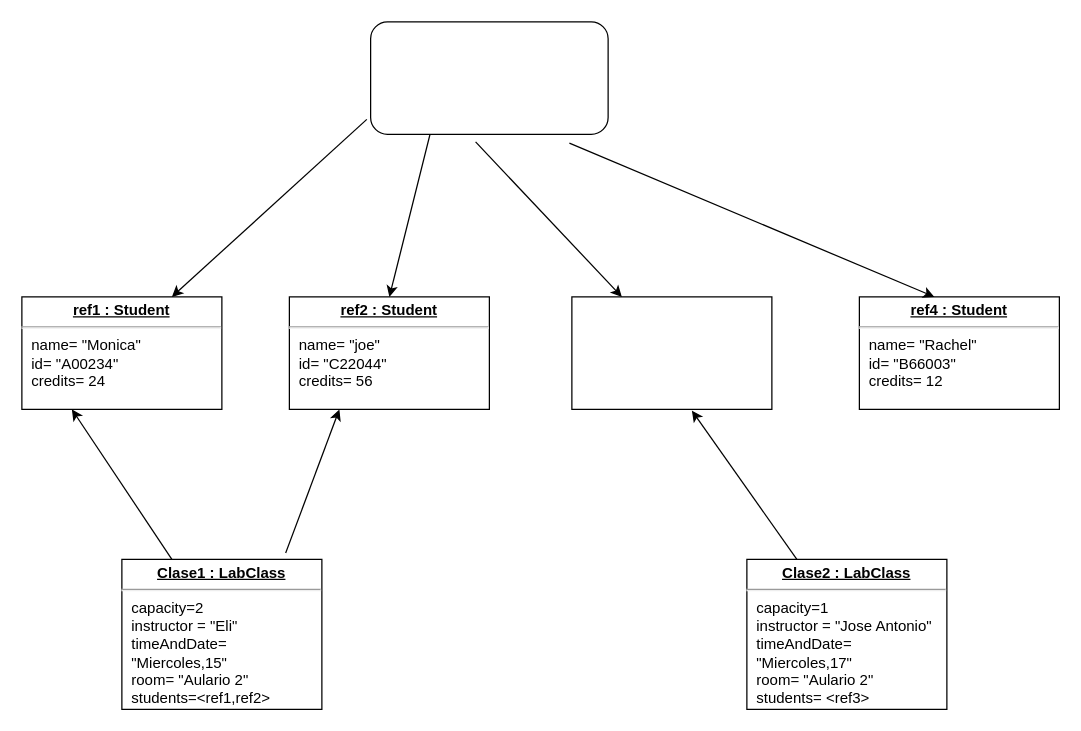
Some shapes in this 1081 by 731 pixel diagram are drawn without their labels. The box of each missing label's shape, as (x1, y1, x2, y2) in pixels:
ref3 : Student name= "chaedler" id= "A12003" credits= 12: (571, 296, 772, 409)
students: Student [] students=<ref1,ref2,ref3,ref4>: (369, 21, 608, 134)
